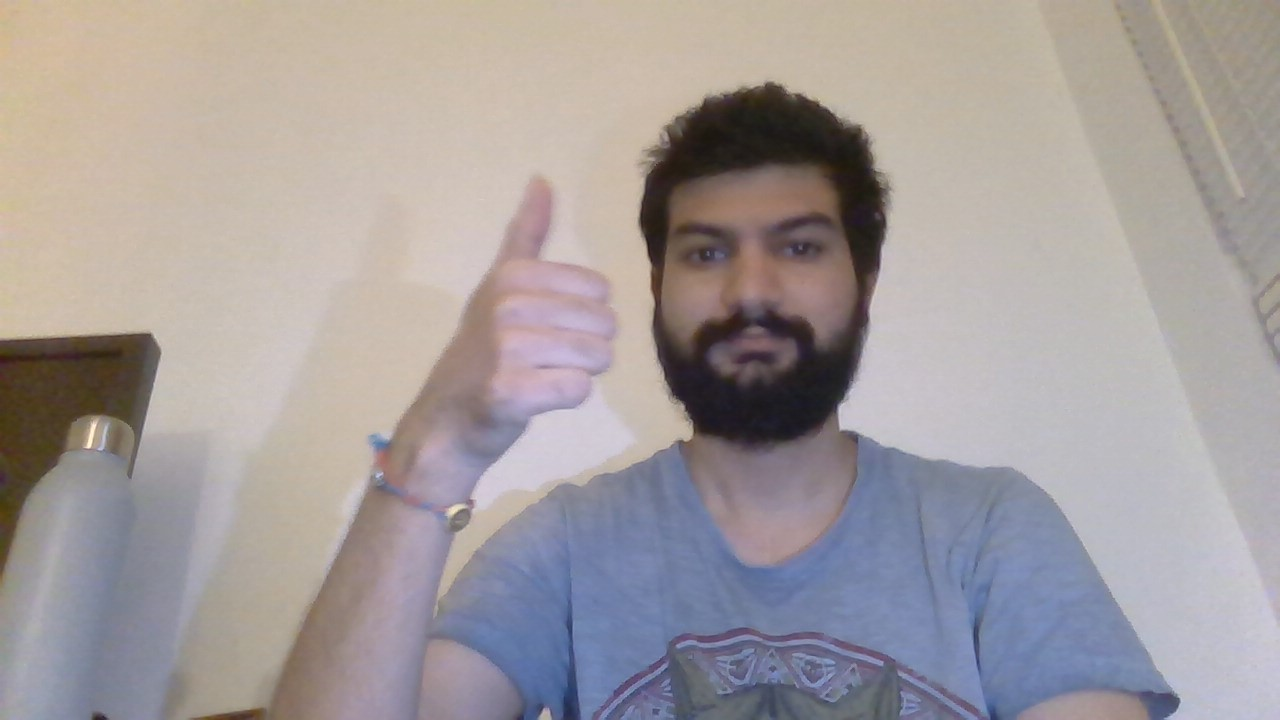up: (448, 161, 631, 428)
